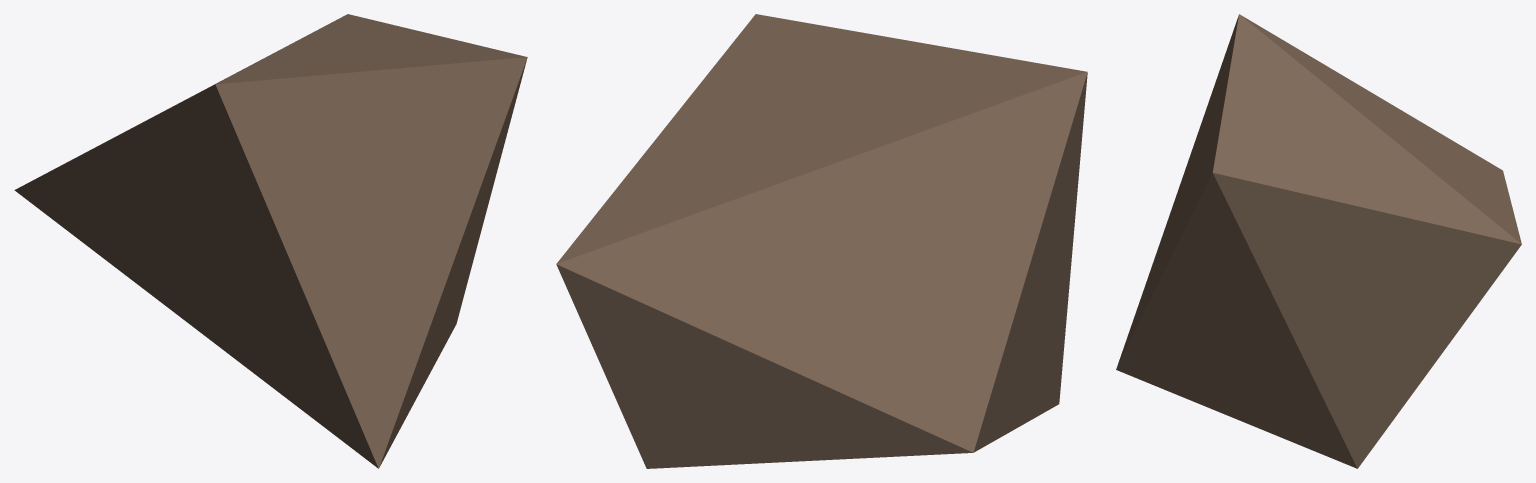
The model's file is RoundRock4.fbx.
The picture shows the model from 3 angles, left to right: view 1: azimuth 30°, elevation 25°; view 2: azimuth 150°, elevation 25°; view 3: azimuth 270°, elevation 25°; orthographic projection. The views are drawn at different scales.
Visible parts, largest first — view 1: RoundRock4; view 2: RoundRock4; view 3: RoundRock4.
Boxes of the visible parts, <box> form: RoundRock4: <box>14,14,527,468</box>; RoundRock4: <box>556,14,1087,468</box>; RoundRock4: <box>1116,14,1521,468</box>.
Size of the model in its own units: 9.13 by 8.82 by 10.07.
